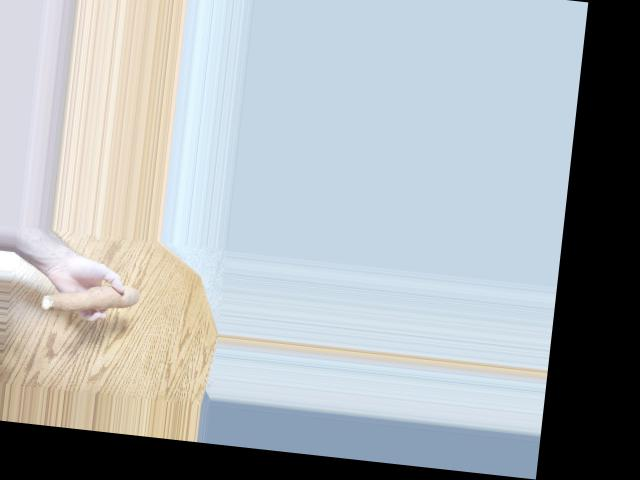sweet_potato: (33, 280, 143, 322)
